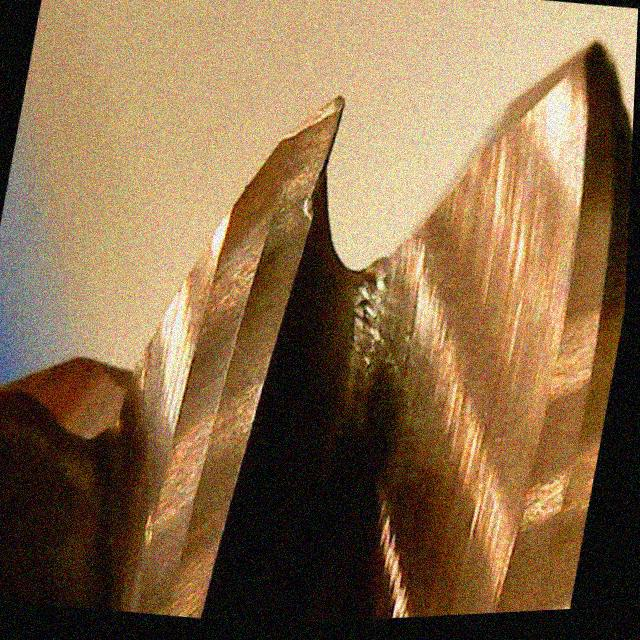Tool-wear-class-1: (204, 80, 368, 374)
